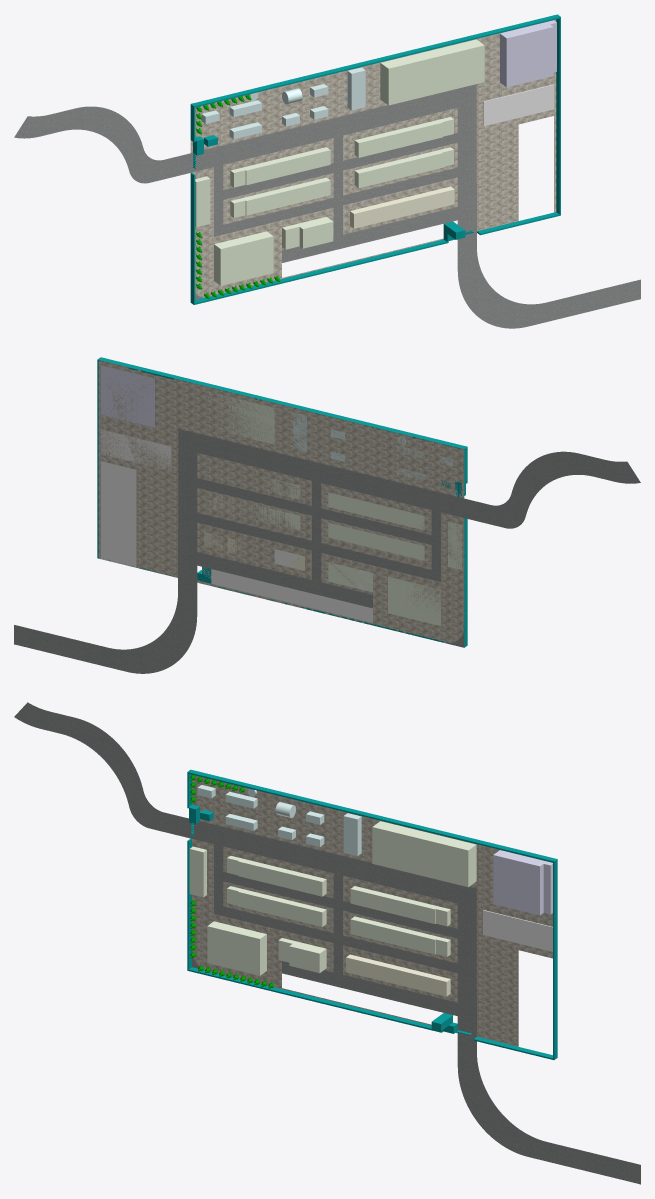
The picture shows the model from 3 angles, top to bottom: view 1: azimuth 30°, elevation 25°; view 2: azimuth 150°, elevation 25°; view 3: azimuth 330°, elevation 25°; orthographic projection.
Parts seen in each view (by area): view 1: Group_86, Group_105, Group_36, Group_51, Group_37, Group_48, Group_10, Group_28, Group_22, Group_40, Group_41, Group_42 (+1 smaller); view 2: Group_86, Group_105, Group_51, Group_37, Group_36, Group_48, Group_10; view 3: Group_86, Group_105, Group_36, Group_51, Group_37, Group_48, Group_10.
Part boxes in pixels (<box>): Group_86: <box>190,19,556,299</box>; Group_105: <box>14,106,640,328</box>; Group_36: <box>380,39,484,105</box>; Group_51: <box>500,22,553,87</box>; Group_37: <box>214,231,273,285</box>; Group_48: <box>483,84,554,126</box>; Group_10: <box>296,217,333,248</box>; Group_28: <box>354,165,379,188</box>; Group_22: <box>354,135,379,157</box>; Group_40: <box>357,203,384,226</box>; Group_41: <box>404,192,431,215</box>; Group_42: <box>427,186,454,209</box>; Group_86: <box>98,360,464,647</box>; Group_105: <box>14,451,640,673</box>; Group_51: <box>108,367,154,427</box>; Group_37: <box>388,576,440,625</box>; Group_36: <box>201,391,274,444</box>; Group_48: <box>101,430,171,470</box>; Group_10: <box>328,562,358,588</box>; Group_86: <box>190,775,552,1046</box>; Group_105: <box>14,702,640,1184</box>; Group_36: <box>372,821,476,887</box>; Group_51: <box>493,850,546,915</box>; Group_37: <box>207,921,266,975</box>; Group_48: <box>483,910,552,951</box>; Group_10: <box>289,941,326,973</box>.
Size of the model in its own units: 10533 by 5340 by 354.
9 materials, 2 textured.
